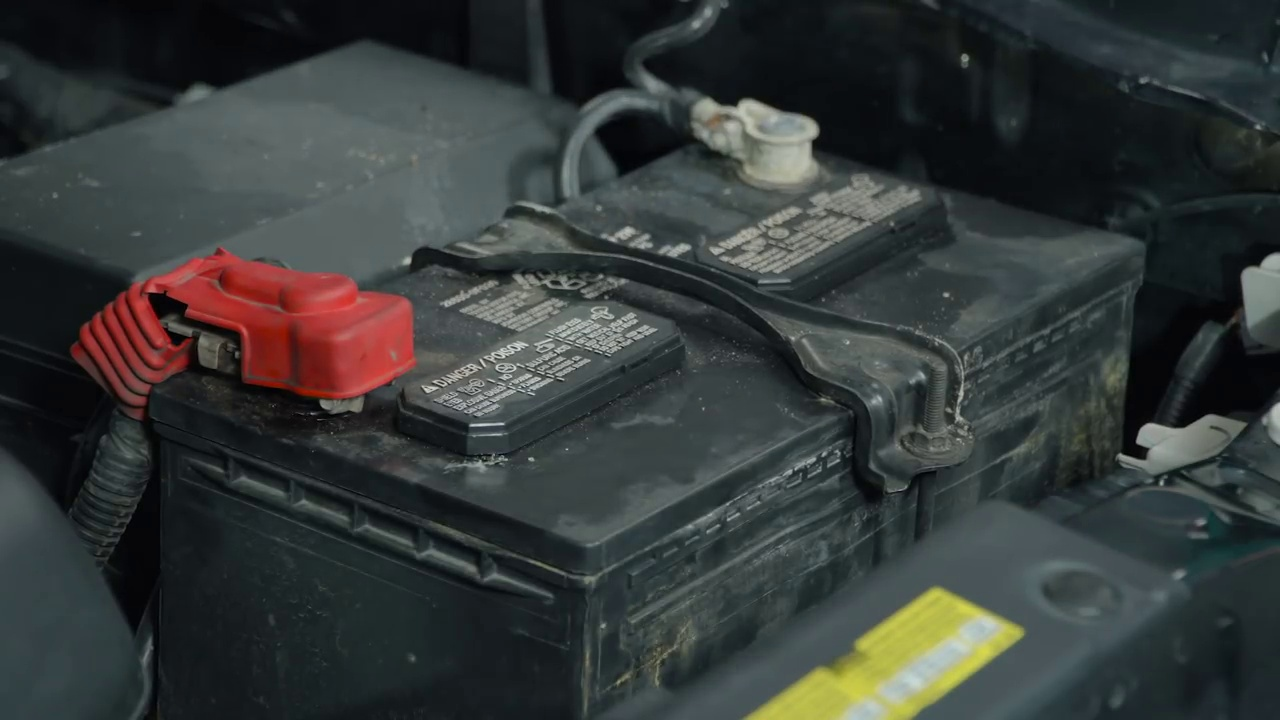battery: (134, 106, 1144, 558)
neg_connected: (594, 51, 829, 217)
pos_connected: (46, 221, 417, 431)
